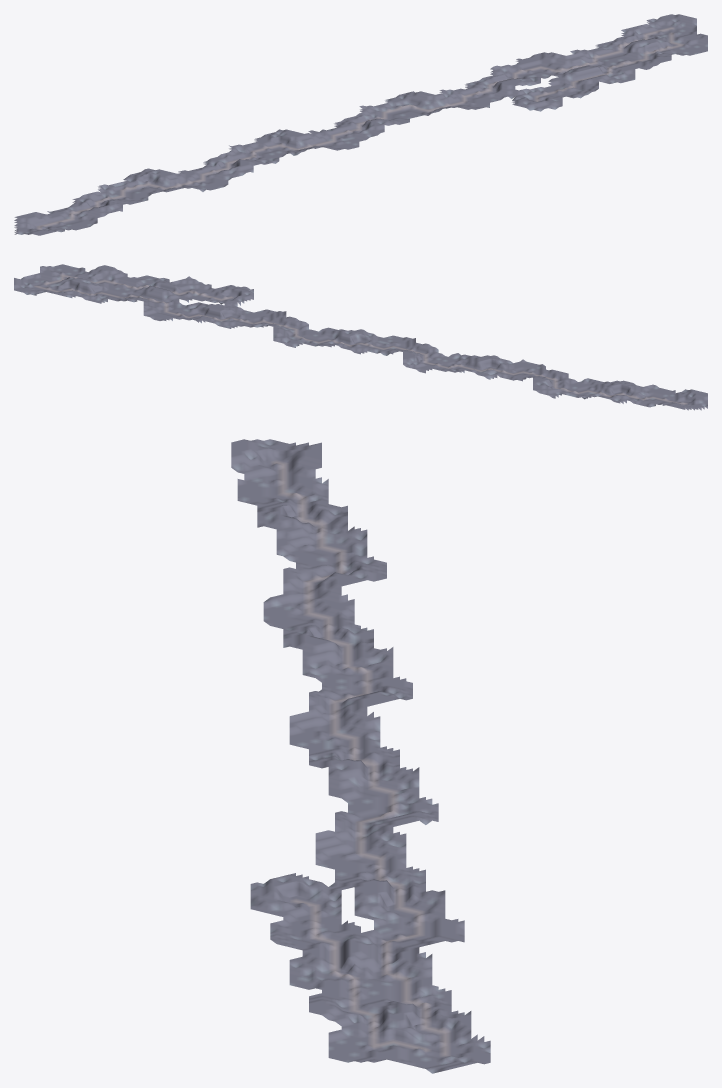
The model's file is terrain.glb.
The picture shows the model from 3 angles, top to bottom: view 1: azimuth 30°, elevation 25°; view 2: azimuth 150°, elevation 25°; view 3: azimuth 270°, elevation 25°; orthographic projection. The views are drawn at different scales.
Parts seen in each view (by area): view 1: NATURAL_10_-2, NATURAL_3_-1, NATURAL_14_-2, NATURAL_15_-2, NATURAL_4_-1, NATURAL_13_-2, NATURAL_13_-1, NATURAL_9_-2, NATURAL_12_-1, NATURAL_2_-1, NATURAL_11_-2, NATURAL_12_-2 (+17 smaller); view 2: NATURAL_13_-2, NATURAL_15_-2, NATURAL_4_-1, NATURAL_12_-1, NATURAL_12_-2, NATURAL_1_-1, NATURAL_3_-1, NATURAL_11_-1, NATURAL_14_-2, NATURAL_2_-1, NATURAL_11_-2, NATURAL_5_-1 (+19 smaller); view 3: NATURAL_14_-2, NATURAL_15_-2, NATURAL_12_-2, NATURAL_2_-1, NATURAL_13_-2, NATURAL_3_-1, NATURAL_9_-2, NATURAL_4_-1, NATURAL_12_-1, NATURAL_13_-1, NATURAL_11_-1, NATURAL_7_-1 (+18 smaller).
Boxes of the visible parts, x1=… form: NATURAL_10_-2: x1=388, y1=89, x2=474, y2=111; NATURAL_3_-1: x1=127, y1=171, x2=213, y2=192; NATURAL_14_-2: x1=570, y1=47, x2=649, y2=68; NATURAL_15_-2: x1=606, y1=37, x2=692, y2=58; NATURAL_4_-1: x1=178, y1=162, x2=252, y2=185; NATURAL_13_-2: x1=519, y1=54, x2=602, y2=77; NATURAL_13_-1: x1=563, y1=66, x2=635, y2=85; NATURAL_9_-2: x1=359, y1=100, x2=430, y2=120; NATURAL_12_-1: x1=527, y1=78, x2=598, y2=98; NATURAL_2_-1: x1=87, y1=184, x2=158, y2=204; NATURAL_11_-2: x1=446, y1=80, x2=518, y2=100; NATURAL_12_-2: x1=479, y1=67, x2=561, y2=85; NATURAL_13_-2: x1=140, y1=287, x2=179, y2=317; NATURAL_15_-2: x1=62, y1=270, x2=101, y2=298; NATURAL_4_-1: x1=490, y1=355, x2=529, y2=381; NATURAL_12_-1: x1=179, y1=278, x2=218, y2=302; NATURAL_12_-2: x1=179, y1=297, x2=218, y2=325; NATURAL_1_-1: x1=607, y1=381, x2=646, y2=406; NATURAL_3_-1: x1=529, y1=365, x2=568, y2=392; NATURAL_11_-1: x1=218, y1=288, x2=257, y2=317; NATURAL_14_-2: x1=101, y1=280, x2=140, y2=302; NATURAL_2_-1: x1=568, y1=378, x2=607, y2=398; NATURAL_11_-2: x1=218, y1=304, x2=257, y2=328; NATURAL_5_-1: x1=451, y1=353, x2=490, y2=374; NATURAL_14_-2: x1=354, y1=951, x2=432, y2=1013; NATURAL_15_-2: x1=354, y1=995, x2=432, y2=1051; NATURAL_12_-2: x1=354, y1=882, x2=432, y2=934; NATURAL_2_-1: x1=276, y1=515, x2=354, y2=568; NATURAL_13_-2: x1=354, y1=916, x2=432, y2=974; NATURAL_3_-1: x1=276, y1=555, x2=354, y2=614; NATURAL_9_-2: x1=354, y1=767, x2=432, y2=824; NATURAL_4_-1: x1=276, y1=593, x2=354, y2=647; NATURAL_12_-1: x1=276, y1=897, x2=354, y2=948; NATURAL_13_-1: x1=289, y1=934, x2=354, y2=988; NATURAL_11_-1: x1=276, y1=861, x2=354, y2=915; NATURAL_7_-1: x1=289, y1=703, x2=354, y2=755.
Bounding box in the file's own units: 376 × 2.9 × 64.8.
